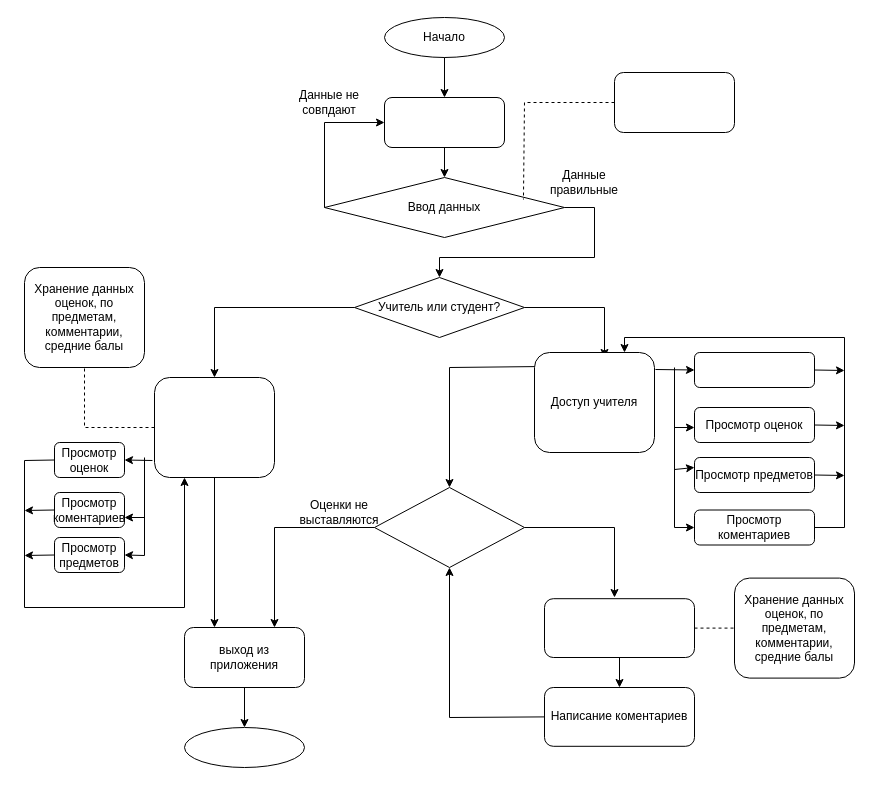
This 872x785 diagram has some shape labels left out. The shapes that lost their labels are listed below. From the top down, each one's centre as x and y in pixels, then its label:
At point 444,122: "Вход в приложение".
At point 674,102: "Данные с профилями учителей и студентов".
At point 754,370: "Просмотр учеников".
At point 214,427: "Доступ студента".
At point 449,527: "Выставление оценок".
At point 619,628: "Выставление оценок по системе ФГОС".
At point 244,747: "Конец".
